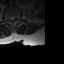CCS_normal: (11, 13, 13, 23)
LFS_normal: (15, 13, 17, 20)
LLS_normal: (13, 13, 15, 21)
RFS_normal: (6, 14, 9, 21)
RLS_normal: (8, 13, 11, 22)
